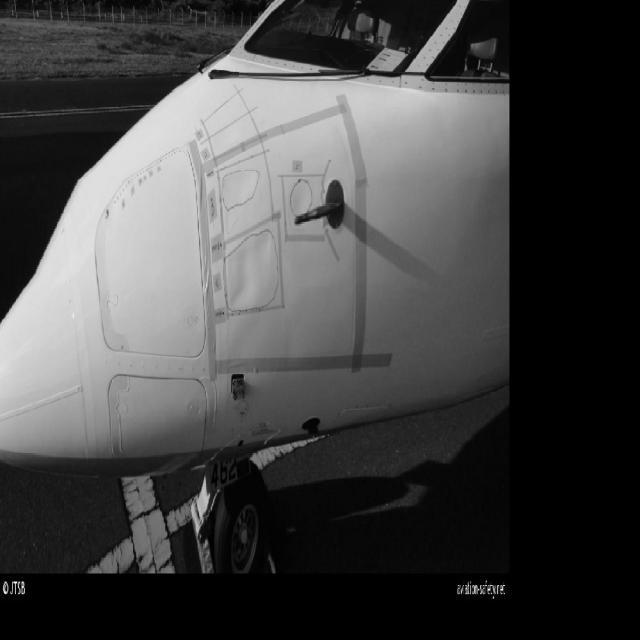dent: (227, 236, 272, 314), (294, 180, 313, 218)
